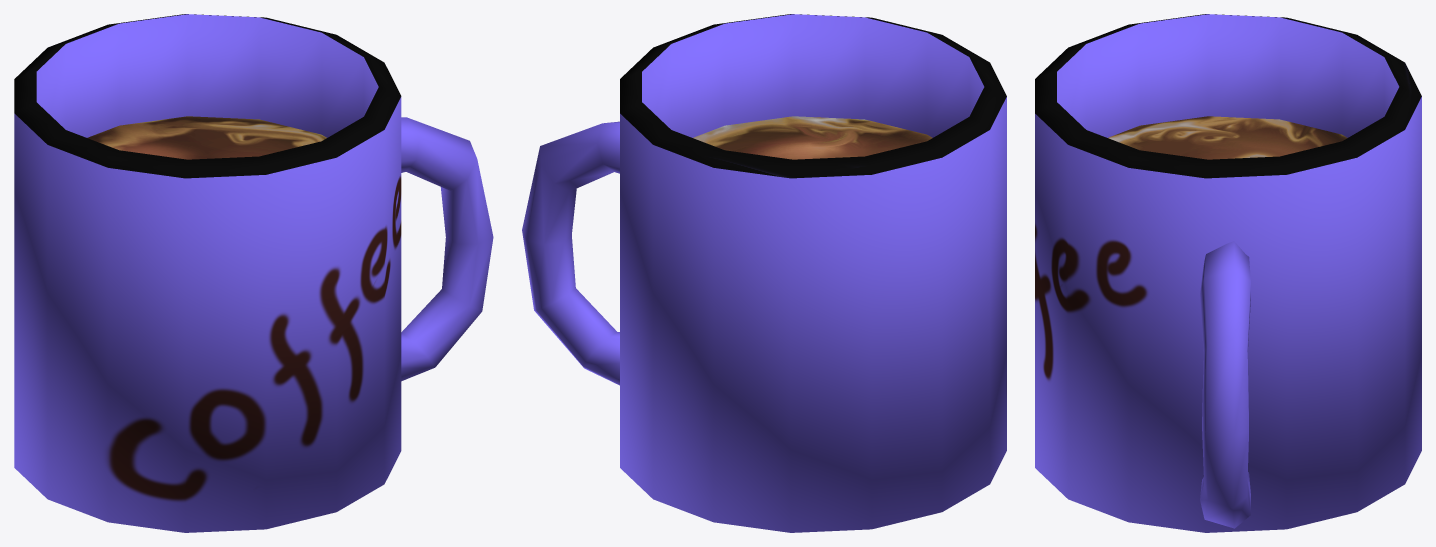
The model's file is caneca cheia.fbx.
3 views of the same model, side by side, from view 1: azimuth 30°, elevation 25°; view 2: azimuth 150°, elevation 25°; view 3: azimuth 270°, elevation 25° (orthographic).
Parts seen in each view (by area): view 1: Cylinder.005; view 2: Cylinder.005; view 3: Cylinder.005.
Boxes of the visible parts, x1,y1,x2,y2 form: Cylinder.005: (14,14,493,532); Cylinder.005: (522,14,1006,532); Cylinder.005: (1035,14,1421,532).
Size of the model in its own units: 29.92 by 22.91 by 22.08.
